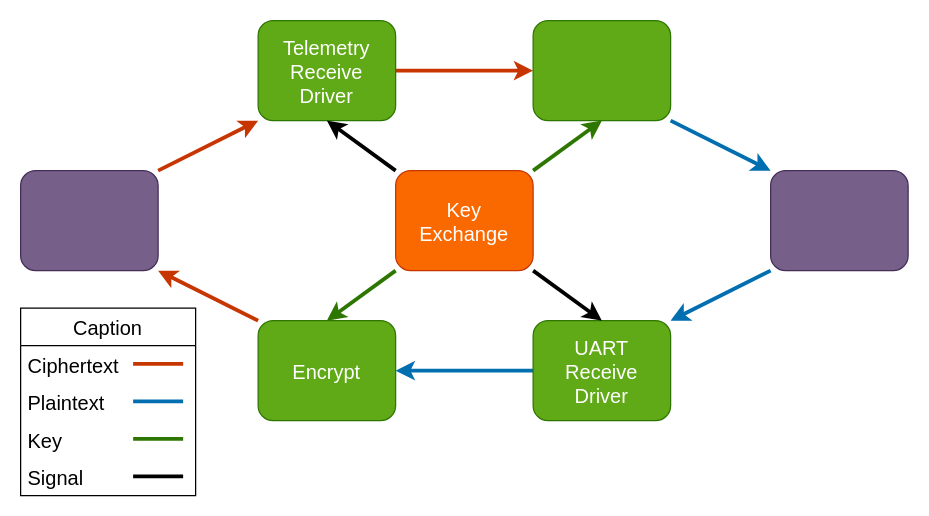
Image size: 929x516. Some labels were removed from this diagram. Each missing label, with the centre of its shape:
"3DR Telemetry" goes at (x=88, y=220).
"Decrypt" goes at (x=601, y=70).
"Pixhawk UART" goes at (x=838, y=220).
